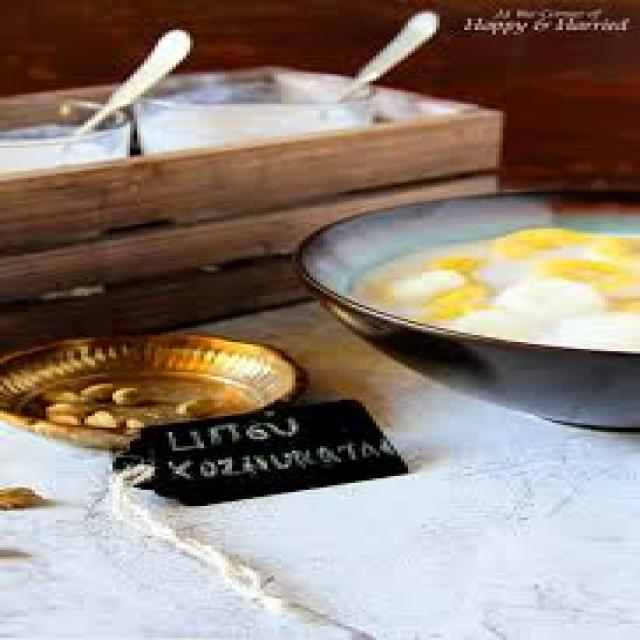paal kolukattai: (329, 152, 640, 370)
